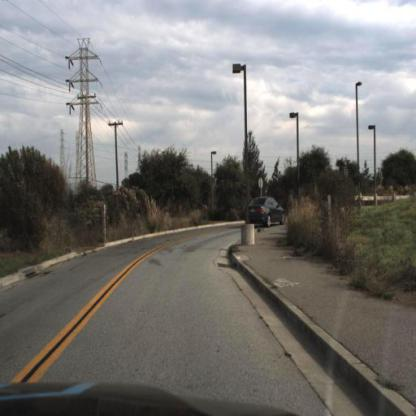car: (246, 195, 287, 230)
